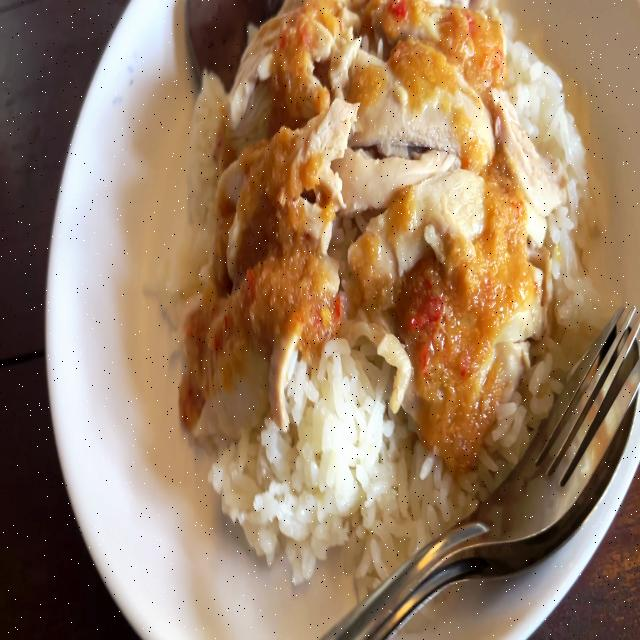boiled_chicken: (230, 3, 499, 425)
boiled_chicken_blood_jelly: (187, 0, 274, 78)
chicken_rice: (151, 0, 605, 603)
